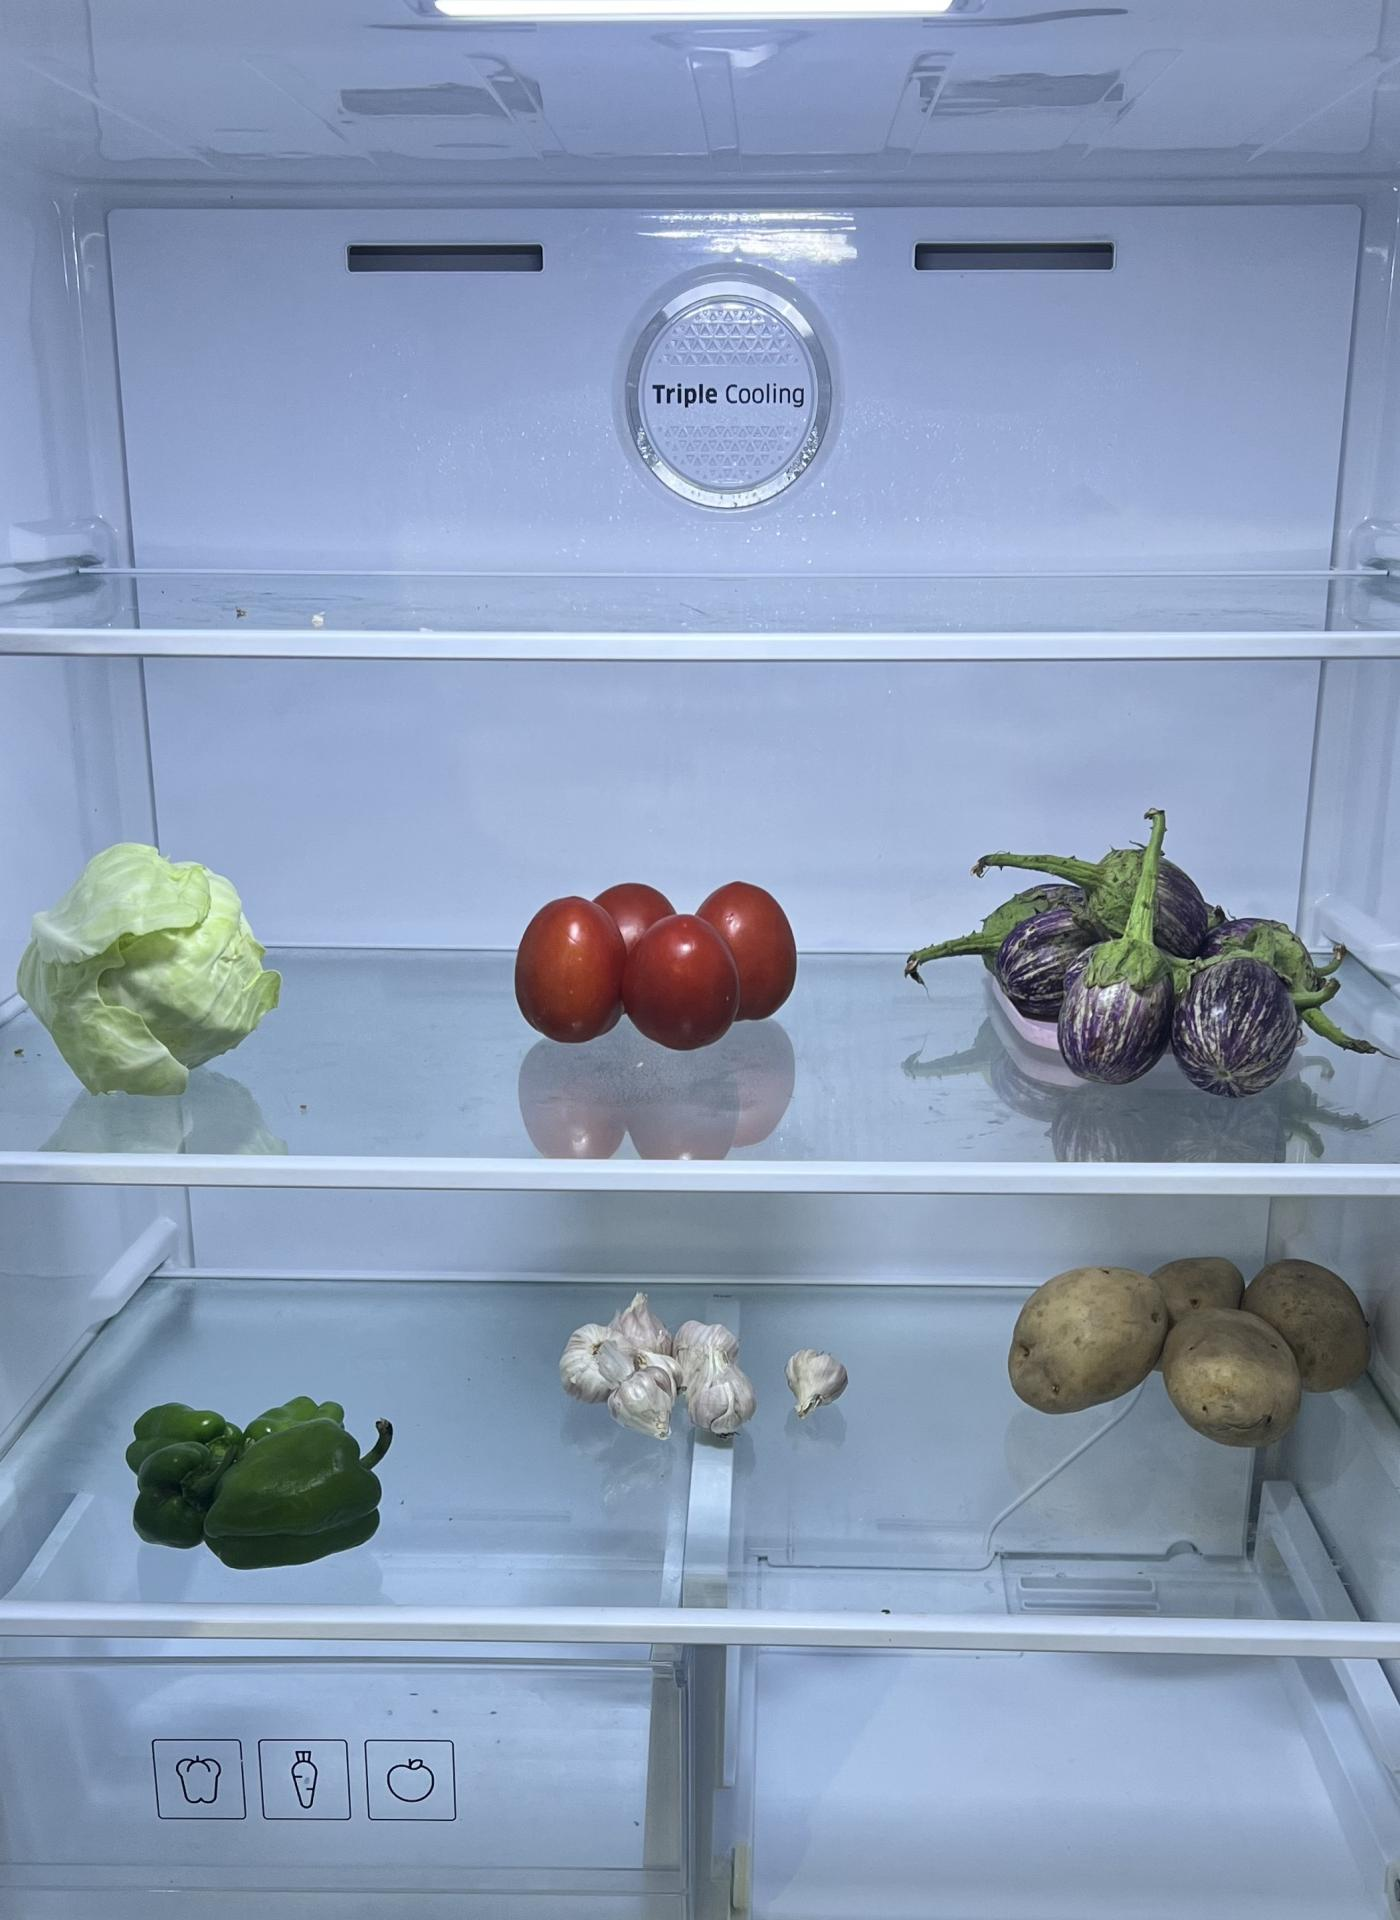brinjal: (977, 829, 1328, 1102)
cabbage: (19, 836, 282, 1096)
capsicum: (130, 1389, 401, 1570)
garlic: (559, 1297, 759, 1450)
potato: (1012, 1245, 1385, 1441)
tomato: (511, 878, 801, 1055)
